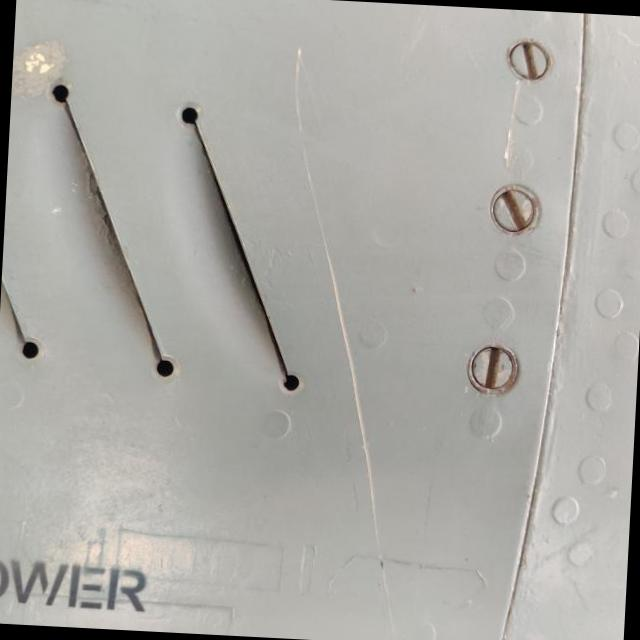Scratch: (291, 49, 368, 469)
